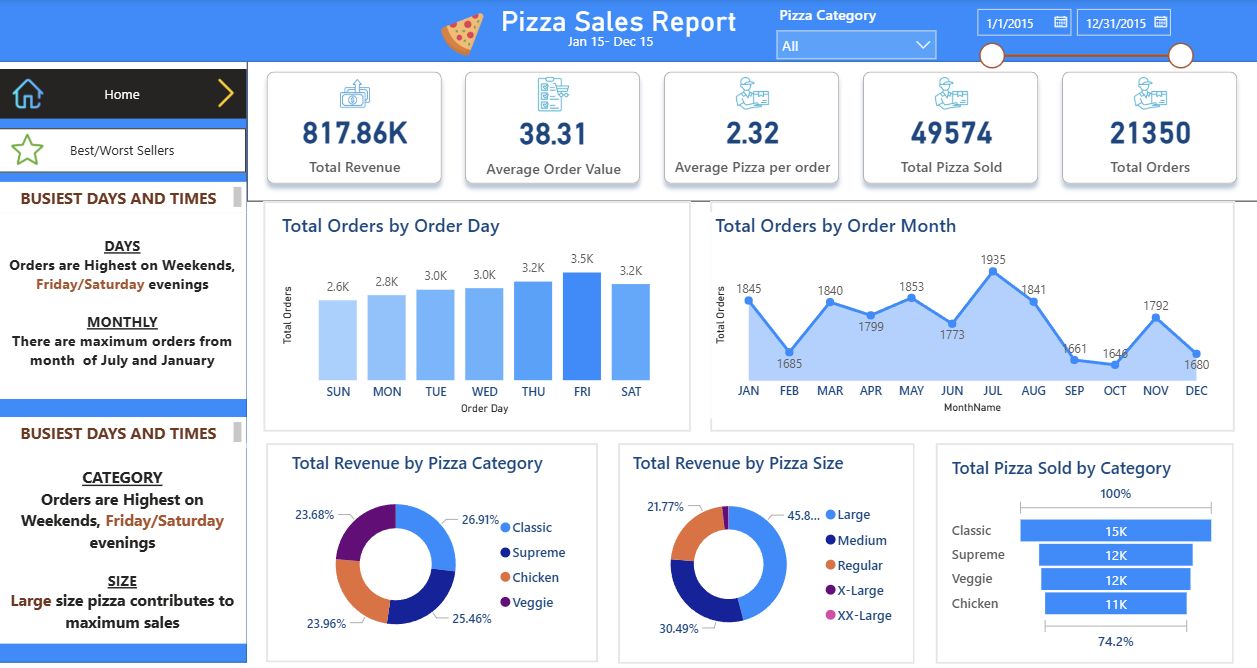

The page's visual inventory and layout, read from the dashboard file:
{"tool":"powerbi","page":{"name":"Home","canvas":[1280,720],"ordinal":0},"visuals":[{"type":"cardVisual","fields":{"Data":["pizza_sales.Total Revenue","pizza_sales.Average Order Value","pizza_sales.Average Pizza per order","pizza_sales.Total Pizza Sold","pizza_sales.Total Orders"]},"box":[252.9,55.7,1027.1,150],"z":0},{"type":"shape","box":[0,0,1280,63.8],"z":1000},{"type":"textbox","box":[441.2,0,378.8,55],"z":2000},{"type":"textbox","box":[573.8,27.5,298.8,43.8],"z":3000},{"type":"image","box":[430,8.8,82.5,55],"z":4000},{"type":"shape","box":[270,205.7,434.3,234.3],"z":5000},{"type":"columnChart","fields":{"Category":["pizza_sales.Order Day"],"Y":["pizza_sales.Total Orders"]},"box":[282.9,217.1,404.3,210],"z":6000},{"type":"shape","box":[722.9,205.7,532.9,234.3],"z":7000},{"type":"areaChart","title":"Total Orders by Order Month","fields":{"Category":["pizza_sales.MonthName"],"Y":["pizza_sales.Total Orders"]},"box":[723.4,216.5,515.4,209.5],"z":8000},{"type":"shape","box":[0,71.4,252.9,602.9],"z":9000},{"type":"shape","box":[272.9,451.4,337.1,222.9],"z":10000},{"type":"shape","box":[630,451.4,301.4,224.3],"z":11000},{"type":"shape","box":[952.9,451.4,302.9,224.3],"z":12000},{"type":"donutChart","title":"Total Revenue by Pizza Category","fields":{"Category":["pizza_sales.pizza_category"],"Y":["pizza_sales.Total Revenue"]},"box":[292.9,458.6,297.1,208.6],"z":13000},{"type":"donutChart","title":"Total Revenue by Pizza Size","fields":{"Category":["pizza_sales.pizza_size"],"Y":["pizza_sales.Total Revenue"]},"box":[640,458.6,282.9,208.6],"z":14000},{"type":"funnel","title":"Total Pizza Sold by Category","fields":{"Category":["pizza_sales.pizza_category"],"Y":["pizza_sales.Total Pizza Sold"]},"box":[964.3,464.3,278.6,202.9],"z":15000},{"type":"textbox","box":[0,186.2,252.5,31.2],"z":16000},{"type":"qnaVisual","box":[610,451.4,150,222.9],"z":17000},{"type":"textbox","box":[0,216.2,252.5,190],"z":18000},{"type":"qnaVisual","box":[1130,205.7,150,468.6],"z":19000},{"type":"textbox","box":[0,425,252.5,31.2],"z":20000},{"type":"textbox","box":[0,451.2,252.5,203.8],"z":21000},{"type":"slicer","fields":{"Values":["pizza_sales.pizza_category"]},"box":[781.2,0,182.5,71.2],"z":22000},{"type":"slicer","fields":{"Values":["pizza_sales.order_date"]},"box":[981.2,0,241.2,75],"z":23000},{"type":"pageNavigator","box":[0,71.2,252.5,50],"z":24000},{"type":"pageNavigator","box":[0,131.2,252.5,45],"z":25000},{"type":"image","box":[211.2,75,41.2,40],"z":26000},{"type":"image","box":[10,75,41.2,41.2],"z":26001},{"type":"image","box":[8.8,131.2,42.5,42.5],"z":26002}]}

Visuals, with their boxes on the page's 1280x720 design canvas (x1, y1, x2, y2). These are canvas units, not pixel positions in the 1257x668 screenshot, which may show the page scaled, cropped or inside an application window:
cardVisual - pizza_sales.Total Revenue x pizza_sales.Average Order Value: (left=253, top=56, right=1280, bottom=206)
shape: (left=0, top=0, right=1280, bottom=64)
textbox: (left=441, top=0, right=820, bottom=55)
textbox: (left=574, top=28, right=873, bottom=71)
image: (left=430, top=9, right=512, bottom=64)
shape: (left=270, top=206, right=704, bottom=440)
columnChart - pizza_sales.Order Day x pizza_sales.Total Orders: (left=283, top=217, right=687, bottom=427)
shape: (left=723, top=206, right=1256, bottom=440)
"Total Orders by Order Month" areaChart: (left=723, top=216, right=1239, bottom=426)
shape: (left=0, top=71, right=253, bottom=674)
shape: (left=273, top=451, right=610, bottom=674)
shape: (left=630, top=451, right=931, bottom=676)
shape: (left=953, top=451, right=1256, bottom=676)
"Total Revenue by Pizza Category" donutChart: (left=293, top=459, right=590, bottom=667)
"Total Revenue by Pizza Size" donutChart: (left=640, top=459, right=923, bottom=667)
"Total Pizza Sold by Category" funnel: (left=964, top=464, right=1243, bottom=667)
textbox: (left=0, top=186, right=252, bottom=217)
qnaVisual: (left=610, top=451, right=760, bottom=674)
textbox: (left=0, top=216, right=252, bottom=406)
qnaVisual: (left=1130, top=206, right=1280, bottom=674)
textbox: (left=0, top=425, right=252, bottom=456)
textbox: (left=0, top=451, right=252, bottom=655)
slicer - pizza_sales.pizza_category: (left=781, top=0, right=964, bottom=71)
slicer - pizza_sales.order_date: (left=981, top=0, right=1222, bottom=75)
pageNavigator: (left=0, top=71, right=252, bottom=121)
pageNavigator: (left=0, top=131, right=252, bottom=176)
image: (left=211, top=75, right=252, bottom=115)
image: (left=10, top=75, right=51, bottom=116)
image: (left=9, top=131, right=51, bottom=174)
